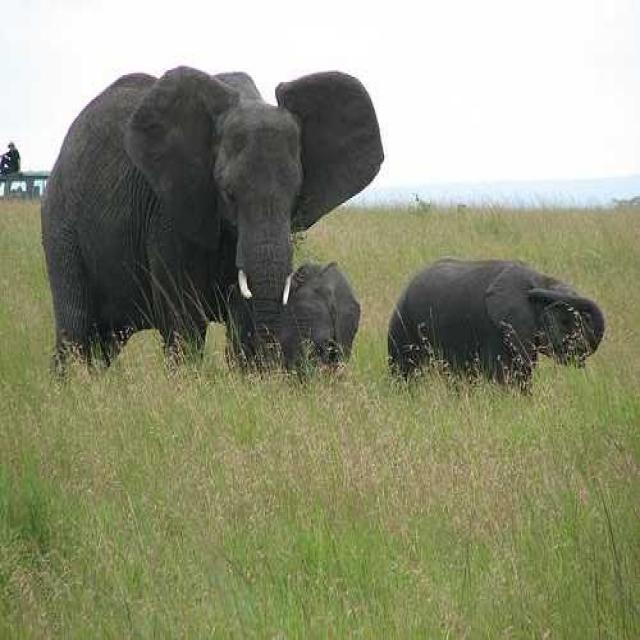Elephant: (38, 63, 384, 382), (386, 256, 606, 396)
